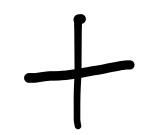plus: (23, 14, 135, 129)
